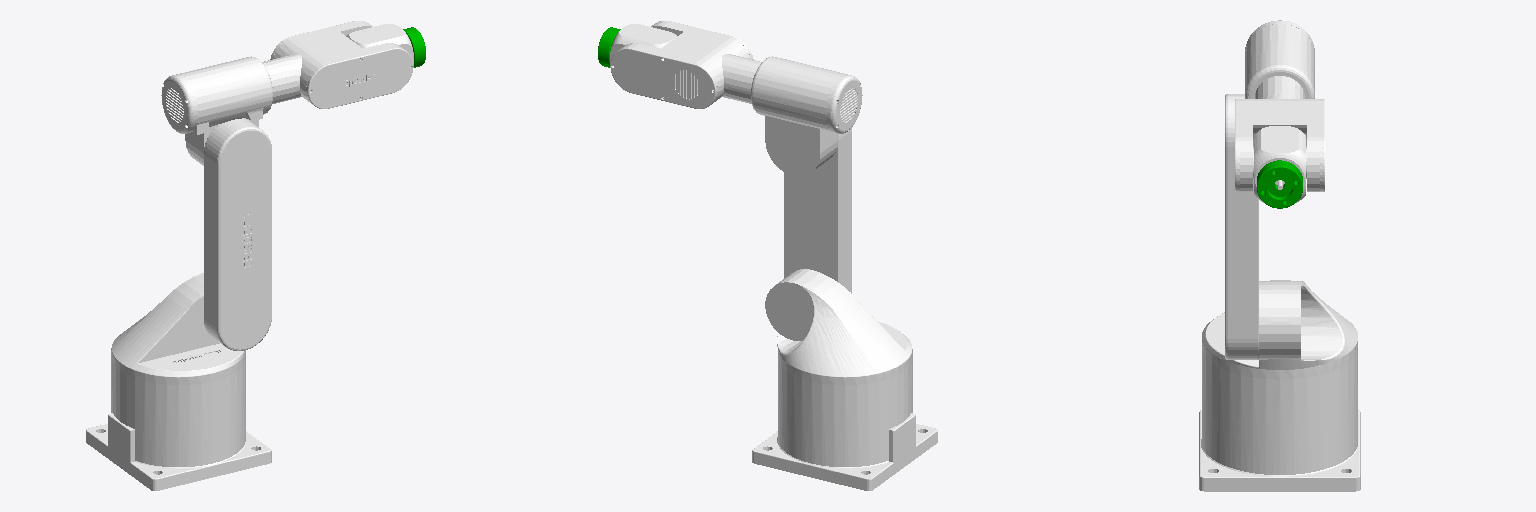
robot.urdf — episode_urdf_0523:
<?xml version="1.0" encoding="utf-8"?>
<!-- This URDF was automatically created by SolidWorks to URDF Exporter! Originally created by [author] ([email redacted]) 
     Commit Version: 1.6.0-4-g7f85cfe  Build Version: 1.6.7995.38578
     For more information, please see http://wiki.ros.org/sw_urdf_exporter -->
<robot
  name="episode_urdf_0523">
  <link
    name="base_link">
    <inertial>
      <origin
        xyz="0.0019218 -1.3509E-11 0.057216"
        rpy="0 0 0" />
      <mass
        value="1.9443" />
      <inertia
        ixx="0.005297"
        ixy="8.1761E-13"
        ixz="0.00014891"
        iyy="0.0050209"
        iyz="-1.1167E-13"
        izz="0.0057119" />
    </inertial>
    <visual>
      <origin
        xyz="0 0 0"
        rpy="0 0 0" />
      <geometry>
        <mesh
          filename="package://episode_description/meshes/base_link.STL" />
      </geometry>
      <material
        name="">
        <color
          rgba="1 1 1 1" />
      </material>
    </visual>
    <collision>
      <origin
        xyz="0 0 0"
        rpy="0 0 0" />
      <geometry>
        <mesh
          filename="package://episode_description/meshes/base_link.STL" />
      </geometry>
    </collision>
  </link>
  <link
    name="link1">
    <inertial>
      <origin
        xyz="0.012949 0.0048434 0.14285"
        rpy="0 0 0" />
      <mass
        value="0.86627" />
      <inertia
        ixx="0.0010939"
        ixy="5.5527E-05"
        ixz="-0.00028854"
        iyy="0.0016229"
        iyz="-4.302E-06"
        izz="0.0018824" />
    </inertial>
    <visual>
      <origin
        xyz="0 0 0"
        rpy="0 0 0" />
      <geometry>
        <mesh
          filename="package://episode_description/meshes/link1.STL" />
      </geometry>
      <material
        name="">
        <color
          rgba="1 1 1 1" />
      </material>
    </visual>
    <collision>
      <origin
        xyz="0 0 0"
        rpy="0 0 0" />
      <geometry>
        <mesh
          filename="package://episode_description/meshes/link1.STL" />
      </geometry>
    </collision>
  </link>
  <joint
    name="joint1"
    type="revolute">
    <origin
      xyz="0 0 0"
      rpy="0 0 0" />
    <parent
      link="base_link" />
    <child
      link="link1" />
    <axis
      xyz="0 0 1" />
    <limit
      lower="-3.14"
      upper="3.14"
      effort="100"
      velocity="1" />
  </joint>
  <link
    name="link2">
    <inertial>
      <origin
        xyz="-1.3288E-06 0.1 0.03596"
        rpy="0 0 0" />
      <mass
        value="0.79173" />
      <inertia
        ixx="0.004403"
        ixy="-2.5829E-09"
        ixz="1.6348E-08"
        iyy="0.00037227"
        iyz="-2.0295E-08"
        izz="0.0046408" />
    </inertial>
    <visual>
      <origin
        xyz="0 0 0"
        rpy="0 0 0" />
      <geometry>
        <mesh
          filename="package://episode_description/meshes/link2.STL" />
      </geometry>
      <material
        name="">
        <color
          rgba="1 1 1 1" />
        </material>
    </visual>
    <collision>
      <origin
        xyz="0 0 0"
        rpy="0 0 0" />
      <geometry>
        <mesh
          filename="package://episode_description/meshes/link2.STL" />
      </geometry>
    </collision>
  </link>
  <joint
    name="joint2"
    type="revolute">
    <origin
      xyz="0.055 0 0.1655"
      rpy="1.5708 0 0" />
    <parent
      link="link1" />
    <child
      link="link2" />
    <axis
      xyz="0 0 1" />
    <limit
      lower="-3.14"
      upper="3.14"
      effort="100"
      velocity="1" />
  </joint>
  <link
    name="link3">
    <inertial>
      <origin
        xyz="0.040489 -0.0050305 6.1192E-05"
        rpy="0 0 0" />
      <mass
        value="0.76426" />
      <inertia
        ixx="0.00091132"
        ixy="7.7087E-05"
        ixz="2.2459E-07"
        iyy="0.00086302"
        iyz="-5.7998E-07"
        izz="0.0014299" />
    </inertial>
    <visual>
      <origin
        xyz="0 0 0"
        rpy="0 0 0" />
      <geometry>
        <mesh
          filename="package://episode_description/meshes/link3.STL" />
      </geometry>
      <material
        name="">
        <color
          rgba="1 1 1 1" />
        </material>
    </visual>
    <collision>
      <origin
        xyz="0 0 0"
        rpy="0 0 0" />
      <geometry>
        <mesh
          filename="package://episode_description/meshes/link3.STL" />
      </geometry>
    </collision>
  </link>
  <joint
    name="joint3"
    type="revolute">
    <origin
      xyz="0 0.2 0"
      rpy="0 0 1.5708" />
    <parent
      link="link2" />
    <child
      link="link3" />
    <axis
      xyz="0 0 1" />
    <limit
      lower="-3.14"
      upper="3.14"
      effort="100"
      velocity="1" />
  </joint>
  <link
    name="link4">
    <inertial>
      <origin
        xyz="2.4145E-07 -5.2723E-05 -0.13259"
        rpy="0 0 0" />
      <mass
        value="0.55092" />
      <inertia
        ixx="0.00096716"
        ixy="4.291E-10"
        ixz="-8.5422E-10"
        iyy="0.00080979"
        iyz="1.2803E-08"
        izz="0.00040258" />
    </inertial>
    <visual>
      <origin
        xyz="0 0 0"
        rpy="0 0 0" />
      <geometry>
        <mesh
          filename="package://episode_description/meshes/link4.STL" />
      </geometry>
      <material
        name="">
        <color
          rgba="1 1 1 1" />
        </material>
    </visual>
    <collision>
      <origin
        xyz="0 0 0"
        rpy="0 0 0" />
      <geometry>
        <mesh
          filename="package://episode_description/meshes/link4.STL" />
      </geometry>
    </collision>
  </link>
  <joint
    name="joint4"
    type="revolute">
    <origin
      xyz="0.056 0 0"
      rpy="-1.5708 0 0" />
    <parent
      link="link3" />
    <child
      link="link4" />
    <axis
      xyz="0 0 1" />
    <limit
      lower="-3.14"
      upper="3.14"
      effort="100"
      velocity="1" />
  </joint>
  <link
    name="link5">
    <inertial>
      <origin
        xyz="1.5027E-06 -0.0082016 -2.0232E-07"
        rpy="0 0 0" />
      <mass
        value="0.21211" />
      <inertia
        ixx="9.3822E-05"
        ixy="-2.4717E-09"
        ixz="9.1477E-10"
        iyy="9.0774E-05"
        iyz="-8.0724E-10"
        izz="9.9734E-05" />
    </inertial>
    <visual>
      <origin
        xyz="0 0 0"
        rpy="0 0 0" />
      <geometry>
        <mesh
          filename="package://episode_description/meshes/link5.STL" />
      </geometry>
      <material
        name="">
        <color
          rgba="1 1 1 1" />
        </material>
    </visual>
    <collision>
      <origin
        xyz="0 0 0"
        rpy="0 0 0" />
      <geometry>
        <mesh
          filename="package://episode_description/meshes/link5.STL" />
      </geometry>
    </collision>
  </link>
  <joint
    name="joint5"
    type="revolute">
    <origin
      xyz="0 0 -0.192"
      rpy="1.5708 0 0" />
    <parent
      link="link4" />
    <child
      link="link5" />
    <axis
      xyz="0 0 1" />
    <limit
      lower="-3.14"
      upper="3.14"
      effort="100"
      velocity="1" />
  </joint>
  <link
    name="link6">
    <inertial>
      <origin
        xyz="-5.5511E-17 7.8726E-16 0.047097"
        rpy="0 0 0" />
      <mass
        value="0.023787" />
      <inertia
        ixx="3.7132E-06"
        ixy="-1.7262E-21"
        ixz="-5.5809E-24"
        iyy="3.7132E-06"
        iyz="-1.5385E-22"
        izz="6.5852E-06" />
    </inertial>
    <visual>
      <origin
        xyz="0 0 0"
        rpy="0 0 0" />
      <geometry>
        <mesh
          filename="package://episode_description/meshes/link6.STL" />
      </geometry>
      <material
        name="">
        <color
          rgba="0 0.75294 0 1" />
        </material>
    </visual>
    <collision>
      <origin
        xyz="0 0 0"
        rpy="0 0 0" />
      <geometry>
        <mesh
          filename="package://episode_description/meshes/link6.STL" />
      </geometry>
    </collision>
  </link>
  <joint
    name="joint6"
    type="revolute">
    <origin
      xyz="0 0 0"
      rpy="1.5708 0 0" />
    <parent
      link="link5" />
    <child
      link="link6" />
    <axis
      xyz="0 0 1" />
    <limit
      lower="-3.14"
      upper="3.14"
      effort="100"
      velocity="1" />
  </joint>
  <!-- === TCP 帧：放在法兰中心 === -->
  <link name="tool0">
    <!-- 惯量可极小，或直接省略 inertial -->
    <inertial>
      <origin xyz="0 0 0" rpy="0 0 0"/>
      <mass value="1e-6"/>
      <inertia ixx="1e-6" ixy="0" ixz="0" iyy="1e-6" iyz="0" izz="1e-6"/>
    </inertial>
  </link>

  <joint name="joint_tool0" type="fixed">
    <parent link="link6"/>
    <child link="tool0"/>
    <!-- 这里是“从 link6 到法兰中心”的位姿偏置：先估，RViz 里看 TF 再改 -->
    <origin xyz="0 0 0.055" rpy="0 0 0"/>
  </joint>
</robot>

--- Render facts (derived) ---
Views: 3 orthographic renders of the robot side by side, from view 1: azimuth 30°, elevation 25°; view 2: azimuth 150°, elevation 25°; view 3: azimuth 270°, elevation 25°.
Robot: episode_urdf_0523 — 8 links, 7 joints (6 revolute, 1 fixed); root link base_link; default pose: every joint at zero.
Links seen in each view (by area): view 1: base_link, link2, link1, link3, link4, link5; view 2: base_link, link1, link3, link4, link2, link5; view 3: base_link, link1, link2, link4, link3, link5, link6.
Boxes of the visible links, x1=… form: base_link: x1=86, y1=357, x2=271, y2=490; link2: x1=204, y1=118, x2=271, y2=350; link1: x1=111, y1=273, x2=245, y2=384; link3: x1=161, y1=56, x2=295, y2=165; link4: x1=270, y1=21, x2=413, y2=108; link5: x1=346, y1=24, x2=413, y2=63; base_link: x1=752, y1=357, x2=937, y2=490; link1: x1=765, y1=269, x2=912, y2=384; link3: x1=728, y1=56, x2=862, y2=176; link4: x1=610, y1=21, x2=753, y2=108; link2: x1=784, y1=128, x2=851, y2=293; link5: x1=610, y1=24, x2=677, y2=63; base_link: x1=1199, y1=351, x2=1360, y2=491; link1: x1=1202, y1=280, x2=1357, y2=379; link2: x1=1225, y1=94, x2=1258, y2=359; link4: x1=1235, y1=90, x2=1324, y2=191; link3: x1=1245, y1=20, x2=1314, y2=98; link5: x1=1253, y1=126, x2=1306, y2=202; link6: x1=1257, y1=160, x2=1302, y2=208.
Size in the robot's own frame: 0.378 by 0.152 by 0.4545 metres.
Meshes: 7 distinct files referenced, 7 mesh visuals loaded (7 binary STL).
